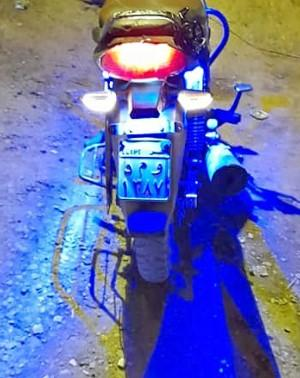License Plate: (118, 134, 171, 203)
